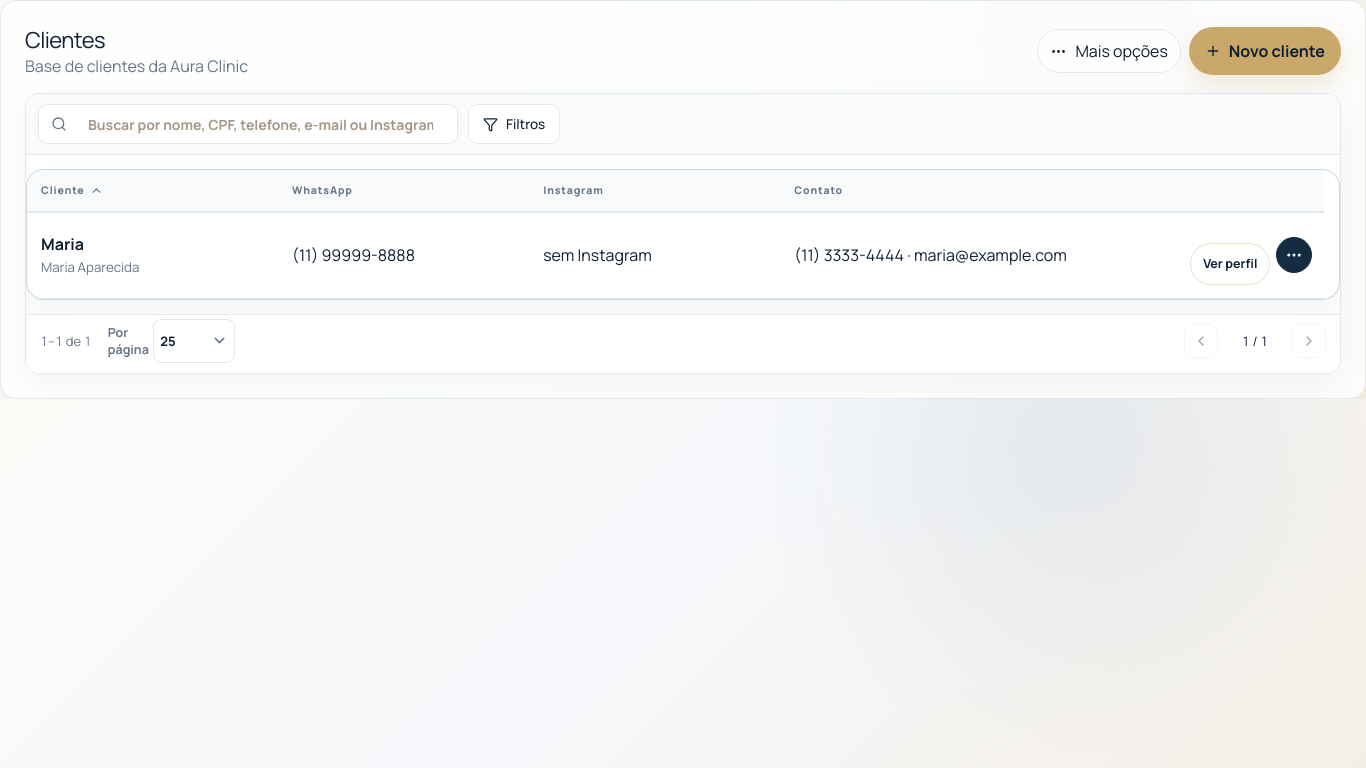
Scenario: clientes e perfil 360 › abre o perfil com dados, histórico, termos e pós-atendimento em abas
Step 1. Click the button "Ver perfil" → (1230, 264), box x1=1190 y1=243 x2=1270 y2=285
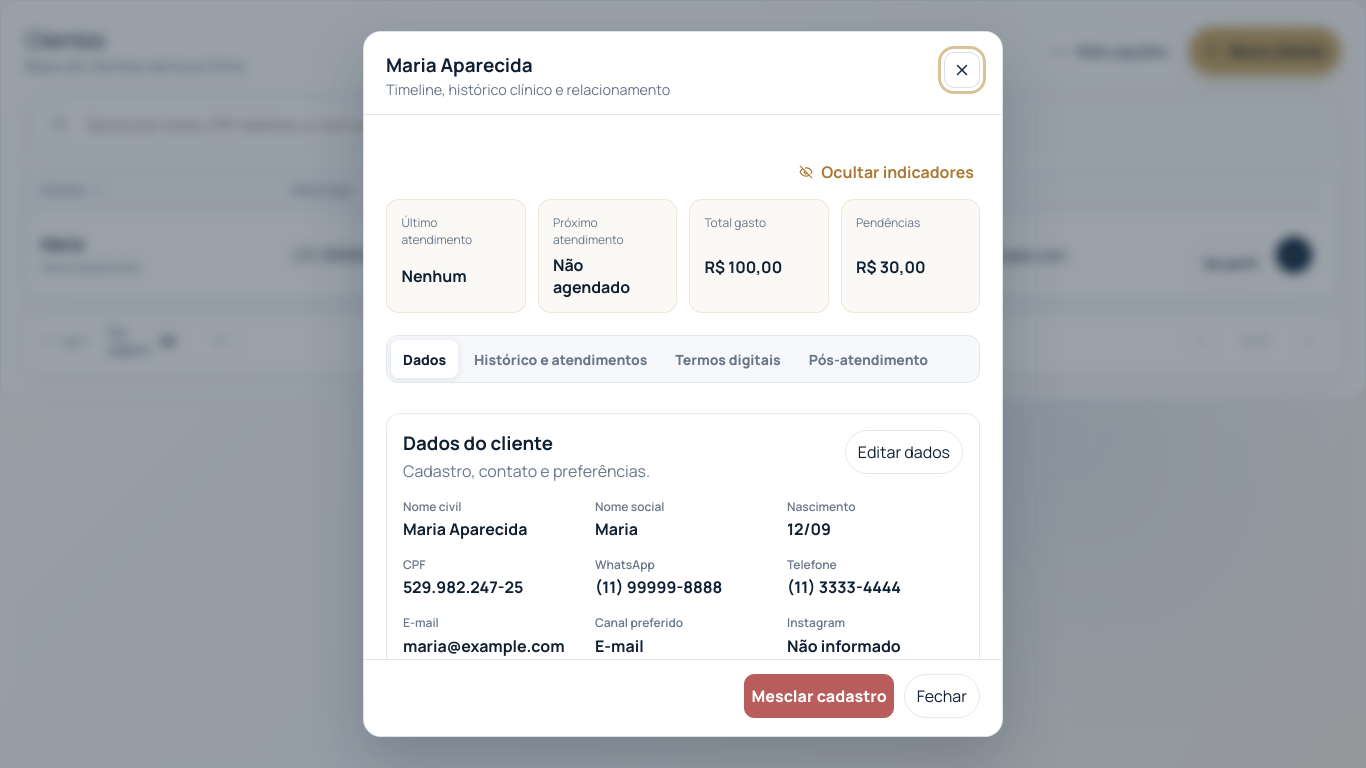
Expected: the tab "Dados" is shown, x1=391 y1=340 x2=458 y2=378
Expected: the text "R$ 100,00" is shown, x1=704 y1=256 x2=782 y2=278
Expected: the text "maria@example.com" is shown, x1=403 y1=635 x2=579 y2=657
Step 2. Click the tab "Termos digitais" → (728, 359), box x1=663 y1=340 x2=793 y2=378
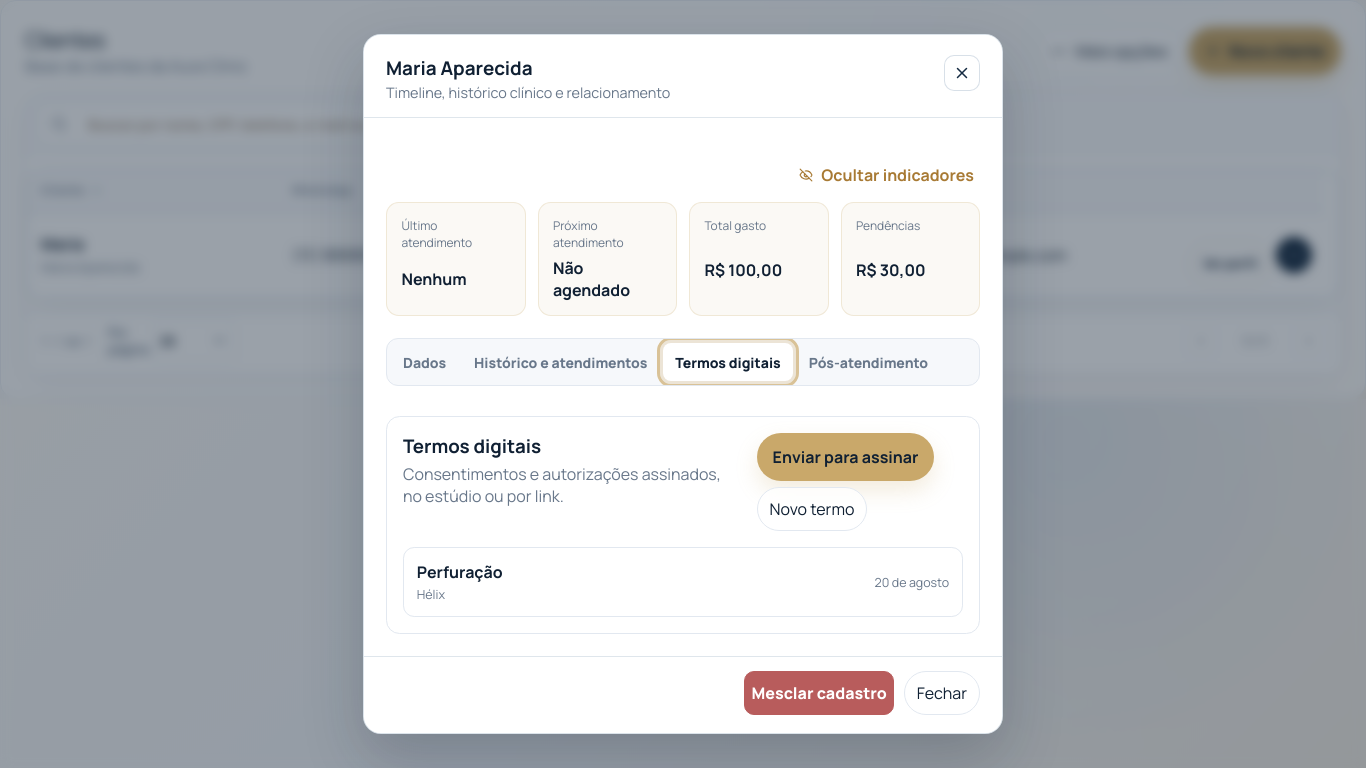
Expected: the text "Perfuração" is shown, x1=417 y1=561 x2=502 y2=583
Step 3. Click the tab "Pós-atendimento" → (868, 362), box x1=797 y1=343 x2=940 y2=381
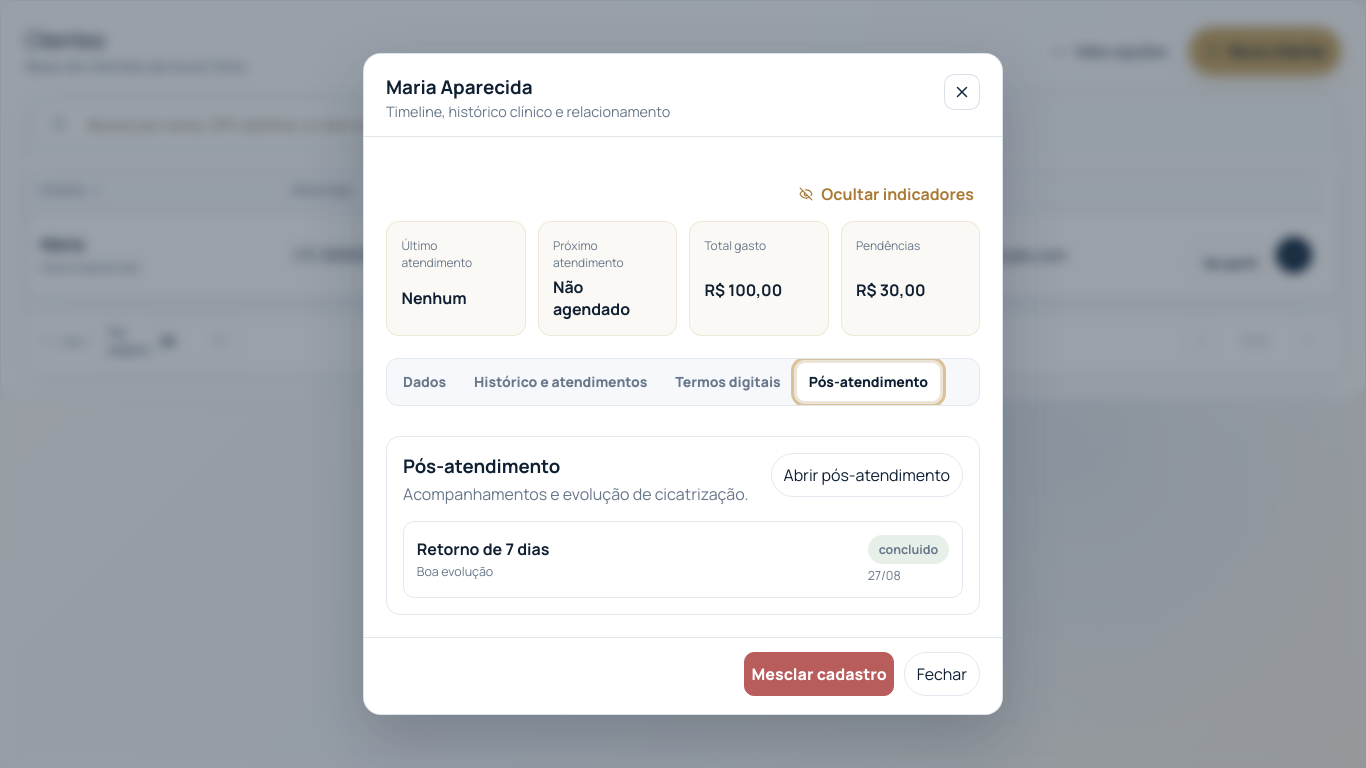
Expected: the text "Boa evolução" is shown, x1=417 y1=563 x2=493 y2=580
